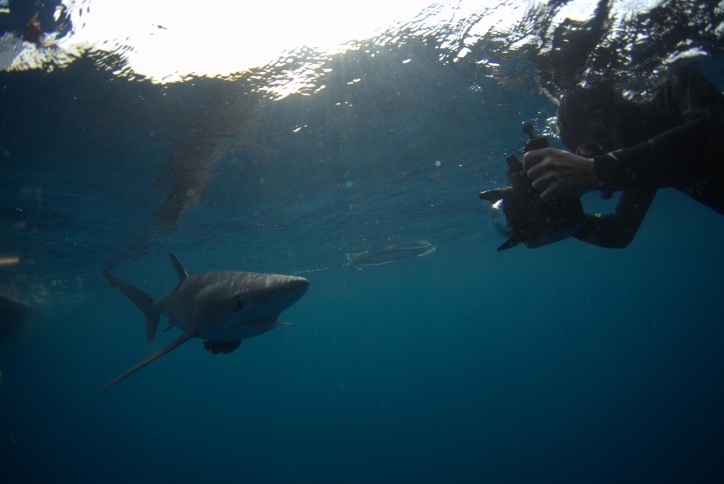Azul: (45, 231, 327, 394)
